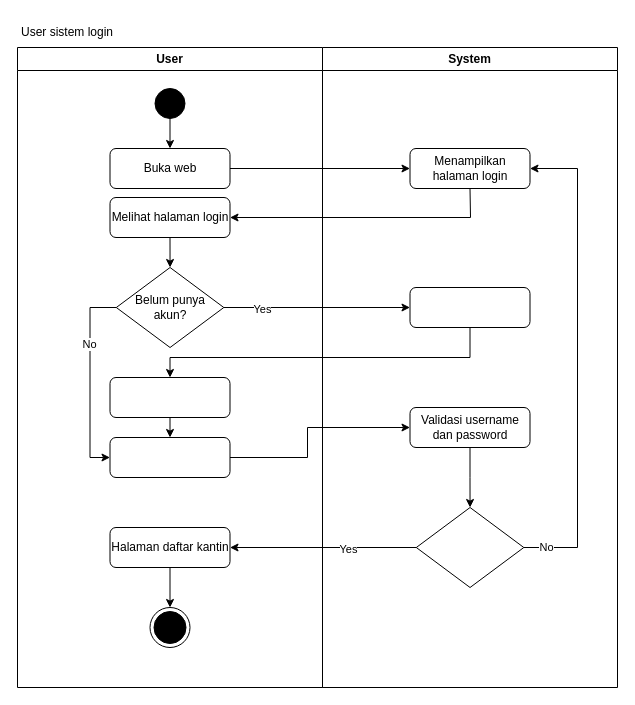
Some shapes in this 635 by 705 pixel diagram are drawn without their labels. The centre of each missing label's shape, as x and y in pixels:
Memasukkan username dan password: point (169, 457)
Menampilkan form registrasi: point (469, 307)
Mengisi data: point (169, 397)
Sukses: point (469, 547)
